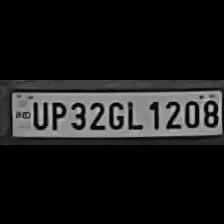0: (180, 96, 200, 128)
1: (144, 97, 160, 129)
2: (86, 97, 106, 129), (161, 96, 181, 128)
3: (66, 97, 86, 129)
8: (200, 95, 220, 127)
G: (106, 97, 126, 129)
L: (125, 96, 143, 130)
P: (47, 97, 66, 129)
U: (28, 97, 48, 128)
